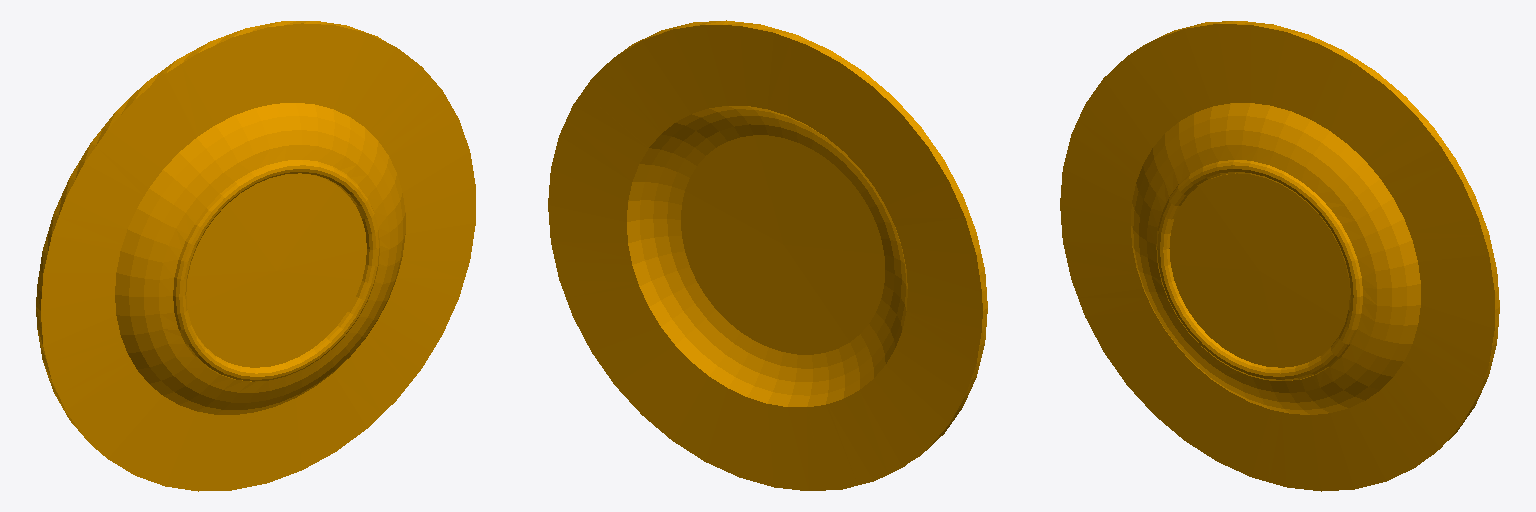
The robot description file, URDF, robot "plate_8p5in":
<?xml version="1.0"?>
<robot name="plate_8p5in">
  <link name="plate_8p5in">
    <inertial>
      <mass value="0.180"/>
      <!-- Inertia values are approximate, assuming constant density
           cylinder. -->
      <inertia ixx="0.002" ixy="0" ixz="0" iyy="0.002" iyz="0" izz="0.004"/>
    </inertial>
    <visual>
      <geometry>
        <mesh filename="meshes/visual/plate_8p5in.obj" scale="0.001"/>
      </geometry>
    </visual>
    <collision>
      <geometry>
        <mesh filename="meshes/collision/plate_8p5in.obj" scale="0.001"/>
      </geometry>
    </collision>
  </link>
</robot>

--- Render facts (derived) ---
3 views of the same robot in one strip: view 1: azimuth 30°, elevation 25°; view 2: azimuth 150°, elevation 25°; view 3: azimuth 330°, elevation 25° (orthographic).
Model plate_8p5in with 1 links and 0 joints (none), rooted at plate_8p5in, posed every joint at zero.
Links seen in each view (by area): view 1: plate_8p5in; view 2: plate_8p5in; view 3: plate_8p5in.
Boxes of the visible links, box(x1,y1,x2,y2) form: plate_8p5in: box(36, 21, 475, 491); plate_8p5in: box(548, 20, 987, 490); plate_8p5in: box(1060, 21, 1499, 491).
Bounding box of the posed robot: 0.2161 × 0.0222 × 0.2161 m (x, y, z).
1 mesh visuals loaded from 1 distinct referenced files (1 OBJ).